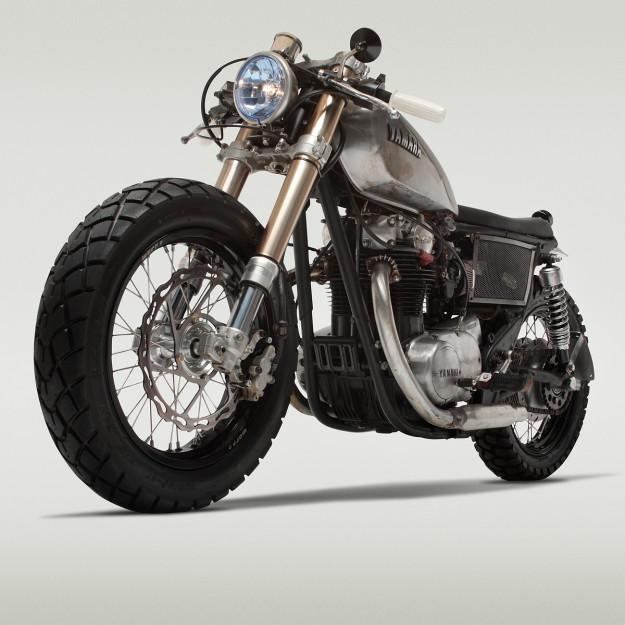motorcycle: (28, 24, 604, 526)
